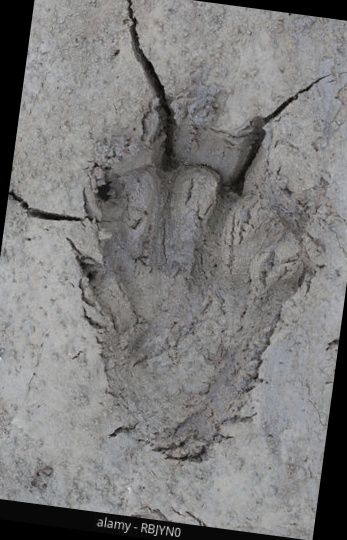beaver: (14, 62, 347, 498)
